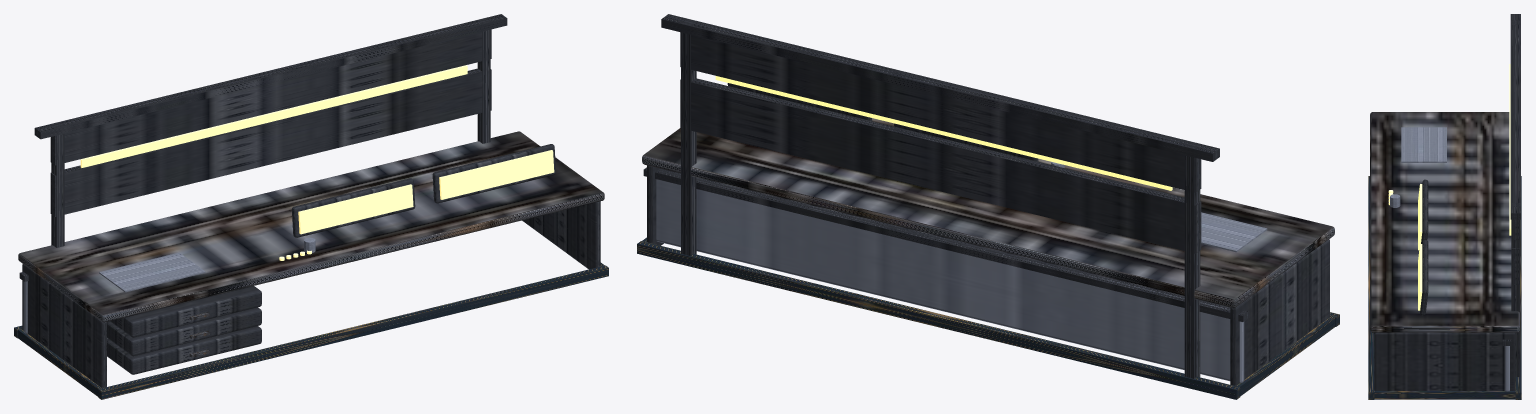
Rendered from bridge_recorddesk.glb.
The picture shows the model from 3 angles, left to right: view 1: azimuth 30°, elevation 25°; view 2: azimuth 150°, elevation 25°; view 3: azimuth 270°, elevation 25°; orthographic projection. The views are drawn at different scales.
Parts seen in each view (by area): view 1: sight_shell, top, shelltoe0, side0, sightglow, drawer2, side2, drawer0, drawer1, mon0_g, mon1_g, paper (+3 smaller); view 2: sight_shell, modesty, top, shelltoe2, side0, shellrim2, sightglow, paper, shellrim0, shelltoes0, side2; view 3: top, side2, sight_shell, paper, shelltoes2, shelltoe0, shelltoe2, mon1, mon0, sightglow, mon1_g, mon0_g (+1 smaller).
Part boxes in pixels (left/top/right/bottom): sight_shell: left=34, top=14, right=507, bottom=247; top: left=18, top=131, right=604, bottom=322; shelltoe0: left=98, top=265, right=608, bottom=399; side0: left=22, top=264, right=106, bottom=387; sightglow: left=80, top=65, right=467, bottom=167; drawer2: left=110, top=286, right=261, bottom=337; side2: left=522, top=201, right=600, bottom=269; drawer0: left=107, top=326, right=261, bottom=374; drawer1: left=107, top=307, right=261, bottom=356; mon0_g: left=298, top=184, right=413, bottom=234; mon1_g: left=439, top=150, right=554, bottom=199; paper: left=99, top=252, right=205, bottom=292; sight_shell: left=661, top=14, right=1219, bottom=378; modesty: left=656, top=179, right=1244, bottom=382; top: left=642, top=118, right=1334, bottom=308; shelltoe2: left=637, top=241, right=1240, bottom=399; side0: left=1230, top=239, right=1329, bottom=385; shellrim2: left=643, top=167, right=1246, bottom=321; sightglow: left=715, top=76, right=1172, bottom=190; paper: left=1201, top=212, right=1267, bottom=252; shellrim0: left=659, top=168, right=1249, bottom=318; shelltoes0: left=1232, top=314, right=1335, bottom=396; side2: left=647, top=165, right=663, bottom=245; top: left=1370, top=112, right=1519, bottom=332; side2: left=1374, top=332, right=1515, bottom=390; sight_shell: left=1510, top=14, right=1520, bottom=376; paper: left=1401, top=127, right=1446, bottom=162; shelltoes2: left=1372, top=390, right=1515, bottom=399; shelltoe0: left=1368, top=176, right=1374, bottom=399; shelltoe2: left=1515, top=176, right=1521, bottom=399; mon1: left=1420, top=240, right=1428, bottom=315; mon0: left=1421, top=179, right=1428, bottom=243; sightglow: left=1509, top=64, right=1511, bottom=235; mon1_g: left=1418, top=244, right=1422, bottom=310; mon0_g: left=1418, top=184, right=1422, bottom=250.
Bounding box in the file's own units: 4.44 × 1.7 × 1.33.
8 materials, 6 textured.
